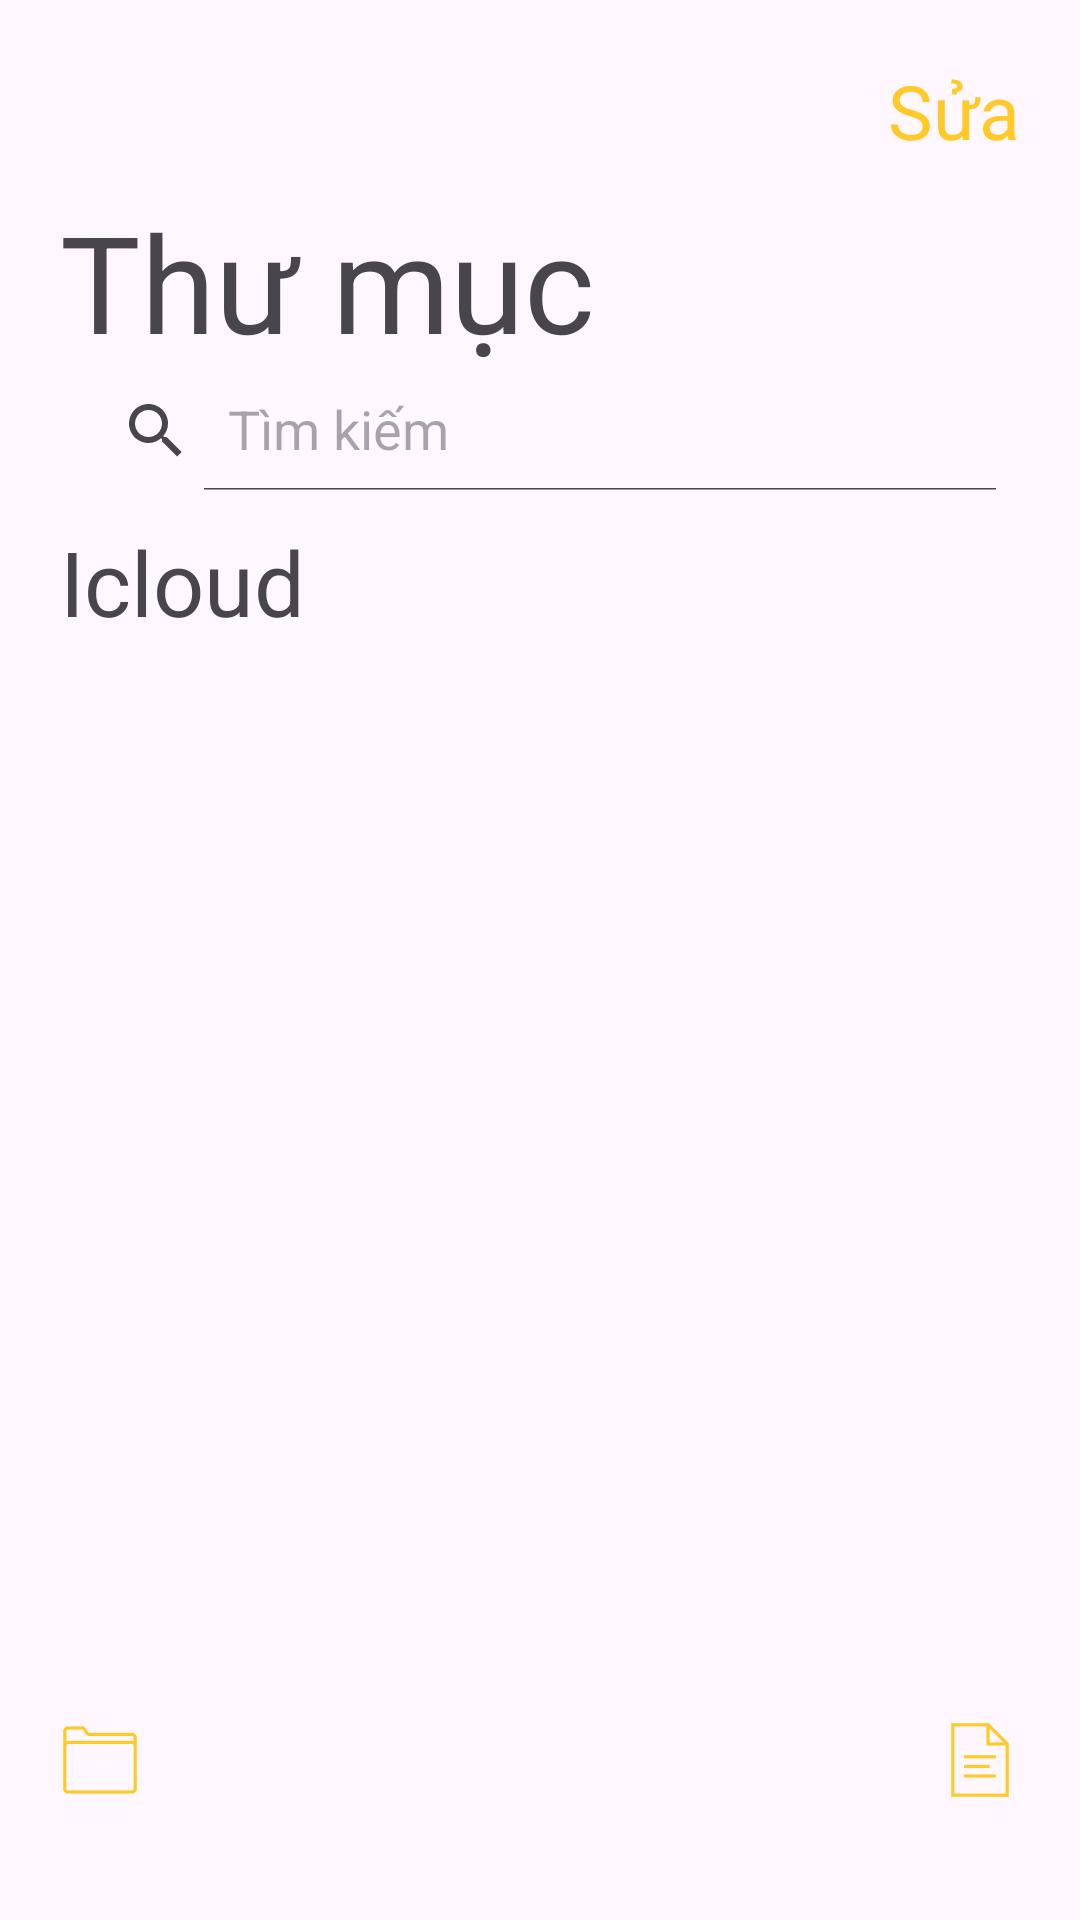

Icon click points for this 1080x1920 phone screenshot, format (x=x, y=y):
folder: (x=100, y=1760)
sheet: (x=980, y=1760)
